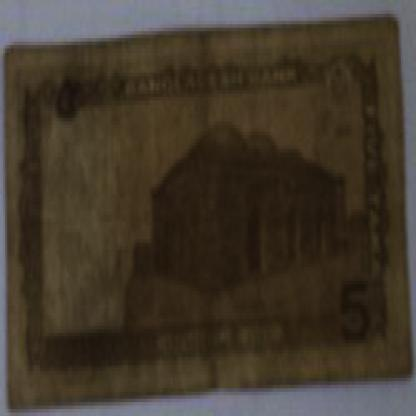Five Taka: (331, 278, 375, 361), (50, 69, 86, 149)
